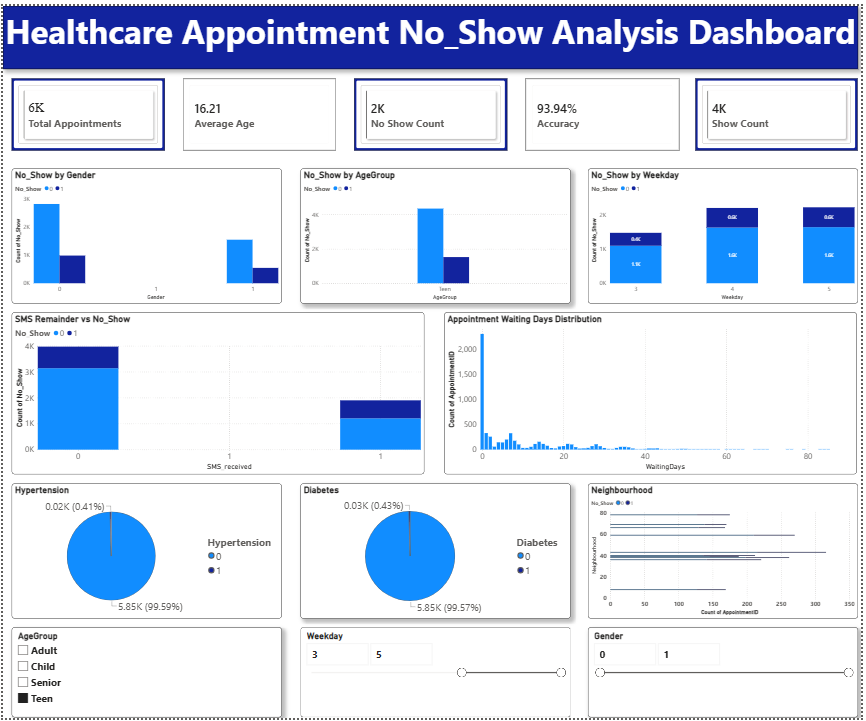

The dashboard page shown, as its layout file describes it:
{"tool":"powerbi","page":{"name":"Page 1","canvas":[2290,1900],"ordinal":0},"visuals":[{"type":"cardVisual","fields":{"Data":["Prediction.Total Appointments"]},"box":[24,192,408,192],"z":0},{"type":"cardVisual","fields":{"Data":["Prediction.No Show Count"]},"box":[936,192,408,192],"z":1000},{"type":"cardVisual","fields":{"Data":["Prediction.Show Count"]},"box":[1848,192,432,192],"z":2000},{"type":"cardVisual","fields":{"Data":["Prediction.Average Age"]},"box":[480,192,408,192],"z":3000},{"type":"cardVisual","fields":{"Data":["Prediction.Accuracy"]},"box":[1392,192,410,192],"z":4000},{"type":"clusteredColumnChart","title":"No_Show by Gender ","fields":{"Category":["Prediction.Gender"],"Y":["CountNonNull(Prediction.No_Show)"],"Series":["Prediction.No_Show"]},"box":[24,432,720,360],"z":5000},{"type":"clusteredColumnChart","title":"No_Show by AgeGroup ","fields":{"Category":["Prediction.AgeGroup"],"Y":["CountNonNull(Prediction.No_Show)"],"Series":["Prediction.No_Show"]},"box":[792,432,720,360],"z":6000},{"type":"columnChart","title":"No_Show by Weekday","fields":{"Category":["Prediction.Weekday"],"Y":["CountNonNull(Prediction.No_Show)"],"Series":["Prediction.No_Show"]},"box":[1560,432,720,360],"z":7000},{"type":"columnChart","title":"SMS Remainder vs No_Show","fields":{"Category":["Prediction.SMS_received"],"Y":["CountNonNull(Prediction.No_Show)"],"Series":["Prediction.No_Show"]},"box":[24,816,1100,432],"z":8000},{"type":"columnChart","title":"Appointment Waiting Days Distribution","fields":{"Category":["Prediction.WaitingDays"],"Y":["CountNonNull(Prediction.AppointmentID)"]},"box":[1176,816,1100,432],"z":9000},{"type":"pieChart","title":"Hypertension","fields":{"Category":["Prediction.Hypertension"],"Y":["CountNonNull(Prediction.AppointmentID)"]},"box":[24,1272,720,360],"z":10000},{"type":"pieChart","title":" Diabetes","fields":{"Category":["Prediction.Diabetes"],"Y":["CountNonNull(Prediction.AppointmentID)"]},"box":[792,1272,720,360],"z":11000},{"type":"barChart","title":"Neighbourhood","fields":{"Category":["Prediction.Neighbourhood"],"Y":["CountNonNull(Prediction.AppointmentID)"],"Series":["Prediction.No_Show"]},"box":[1560,1272,720,360],"z":12000},{"type":"slicer","fields":{"Values":["Prediction.Gender"]},"box":[1560,1656,720,240],"z":13000},{"type":"slicer","fields":{"Values":["Prediction.AgeGroup"]},"box":[24,1656,720,240],"z":14000},{"type":"slicer","fields":{"Values":["Prediction.Weekday"]},"box":[792,1656,720,240],"z":15000},{"type":"textbox","box":[0,0,2280,168],"z":16000}]}

Visuals, with their boxes in screenshot pixels (x1, y1, x2, y2), scaled from the page's 2290x1900 canvas onto the 866x721 screenshot:
cardVisual - Prediction.Total Appointments: bbox=[9, 73, 163, 146]
cardVisual - Prediction.No Show Count: bbox=[354, 73, 508, 146]
cardVisual - Prediction.Show Count: bbox=[699, 73, 862, 146]
cardVisual - Prediction.Average Age: bbox=[182, 73, 336, 146]
cardVisual - Prediction.Accuracy: bbox=[526, 73, 681, 146]
"No_Show by Gender " clusteredColumnChart: bbox=[9, 164, 281, 301]
"No_Show by AgeGroup " clusteredColumnChart: bbox=[300, 164, 572, 301]
"No_Show by Weekday" columnChart: bbox=[590, 164, 862, 301]
"SMS Remainder vs No_Show" columnChart: bbox=[9, 310, 425, 474]
"Appointment Waiting Days Distribution" columnChart: bbox=[445, 310, 861, 474]
"Hypertension" pieChart: bbox=[9, 483, 281, 619]
" Diabetes" pieChart: bbox=[300, 483, 572, 619]
"Neighbourhood" barChart: bbox=[590, 483, 862, 619]
slicer - Prediction.Gender: bbox=[590, 628, 862, 719]
slicer - Prediction.AgeGroup: bbox=[9, 628, 281, 719]
slicer - Prediction.Weekday: bbox=[300, 628, 572, 719]
textbox: bbox=[0, 0, 862, 64]
